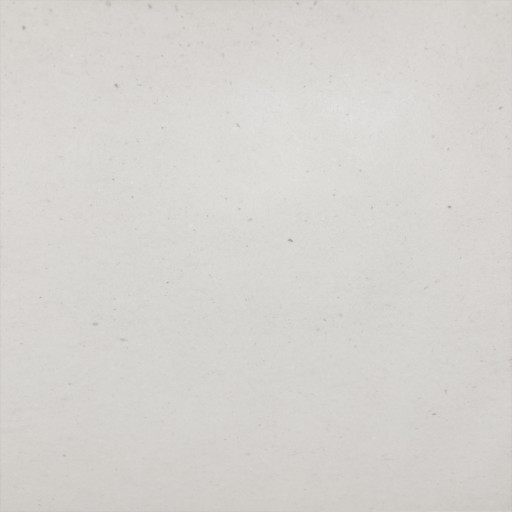lego: (243, 239, 268, 272)
